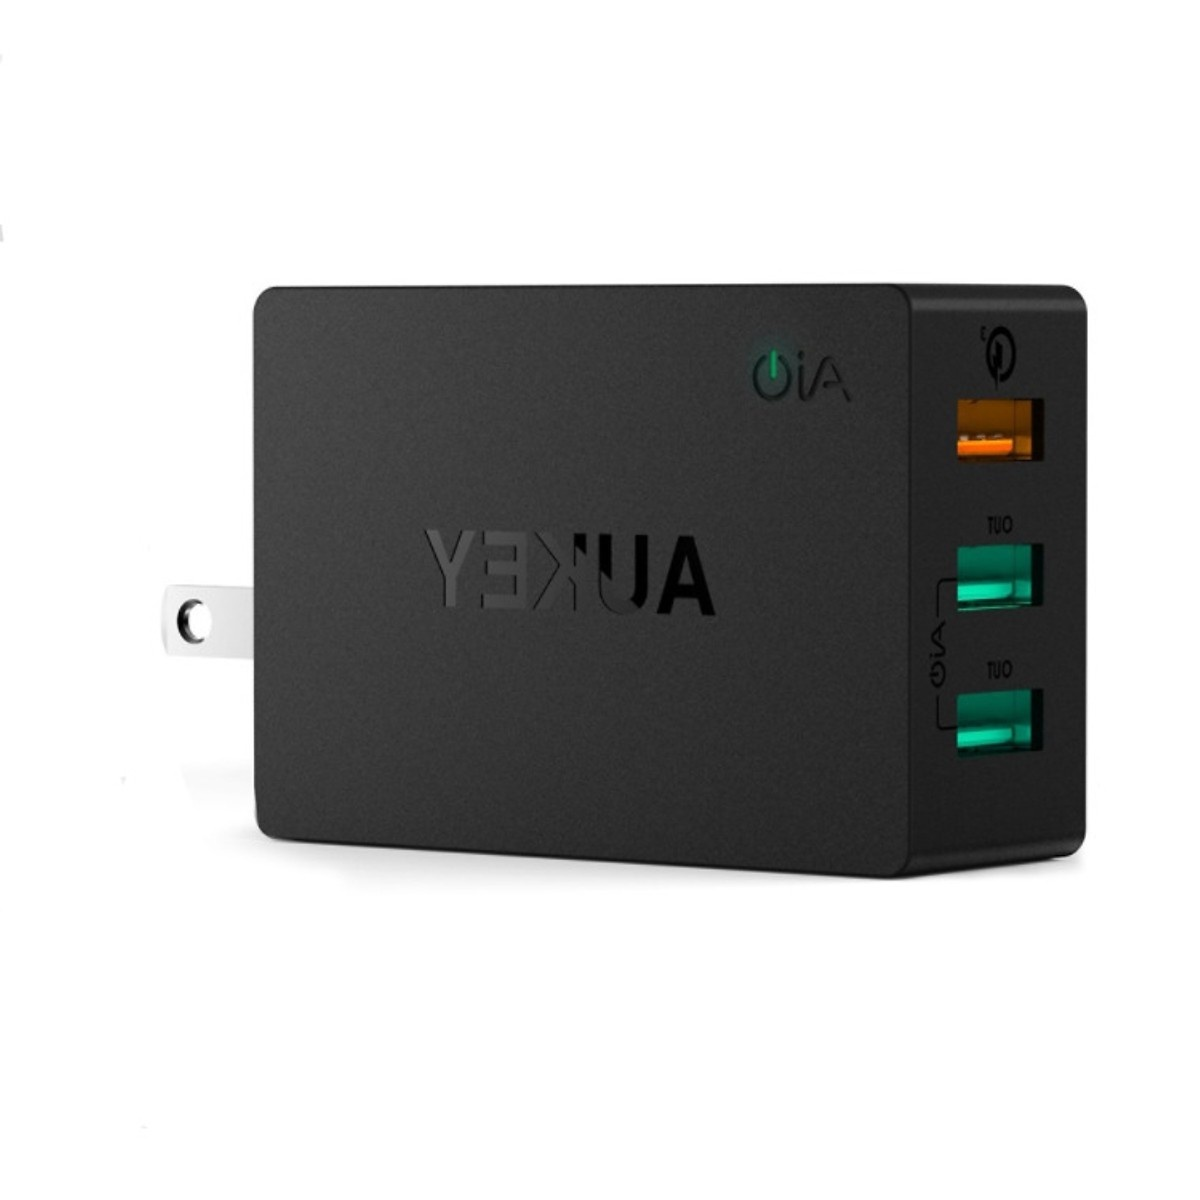Aukey: (334, 480, 748, 719)
